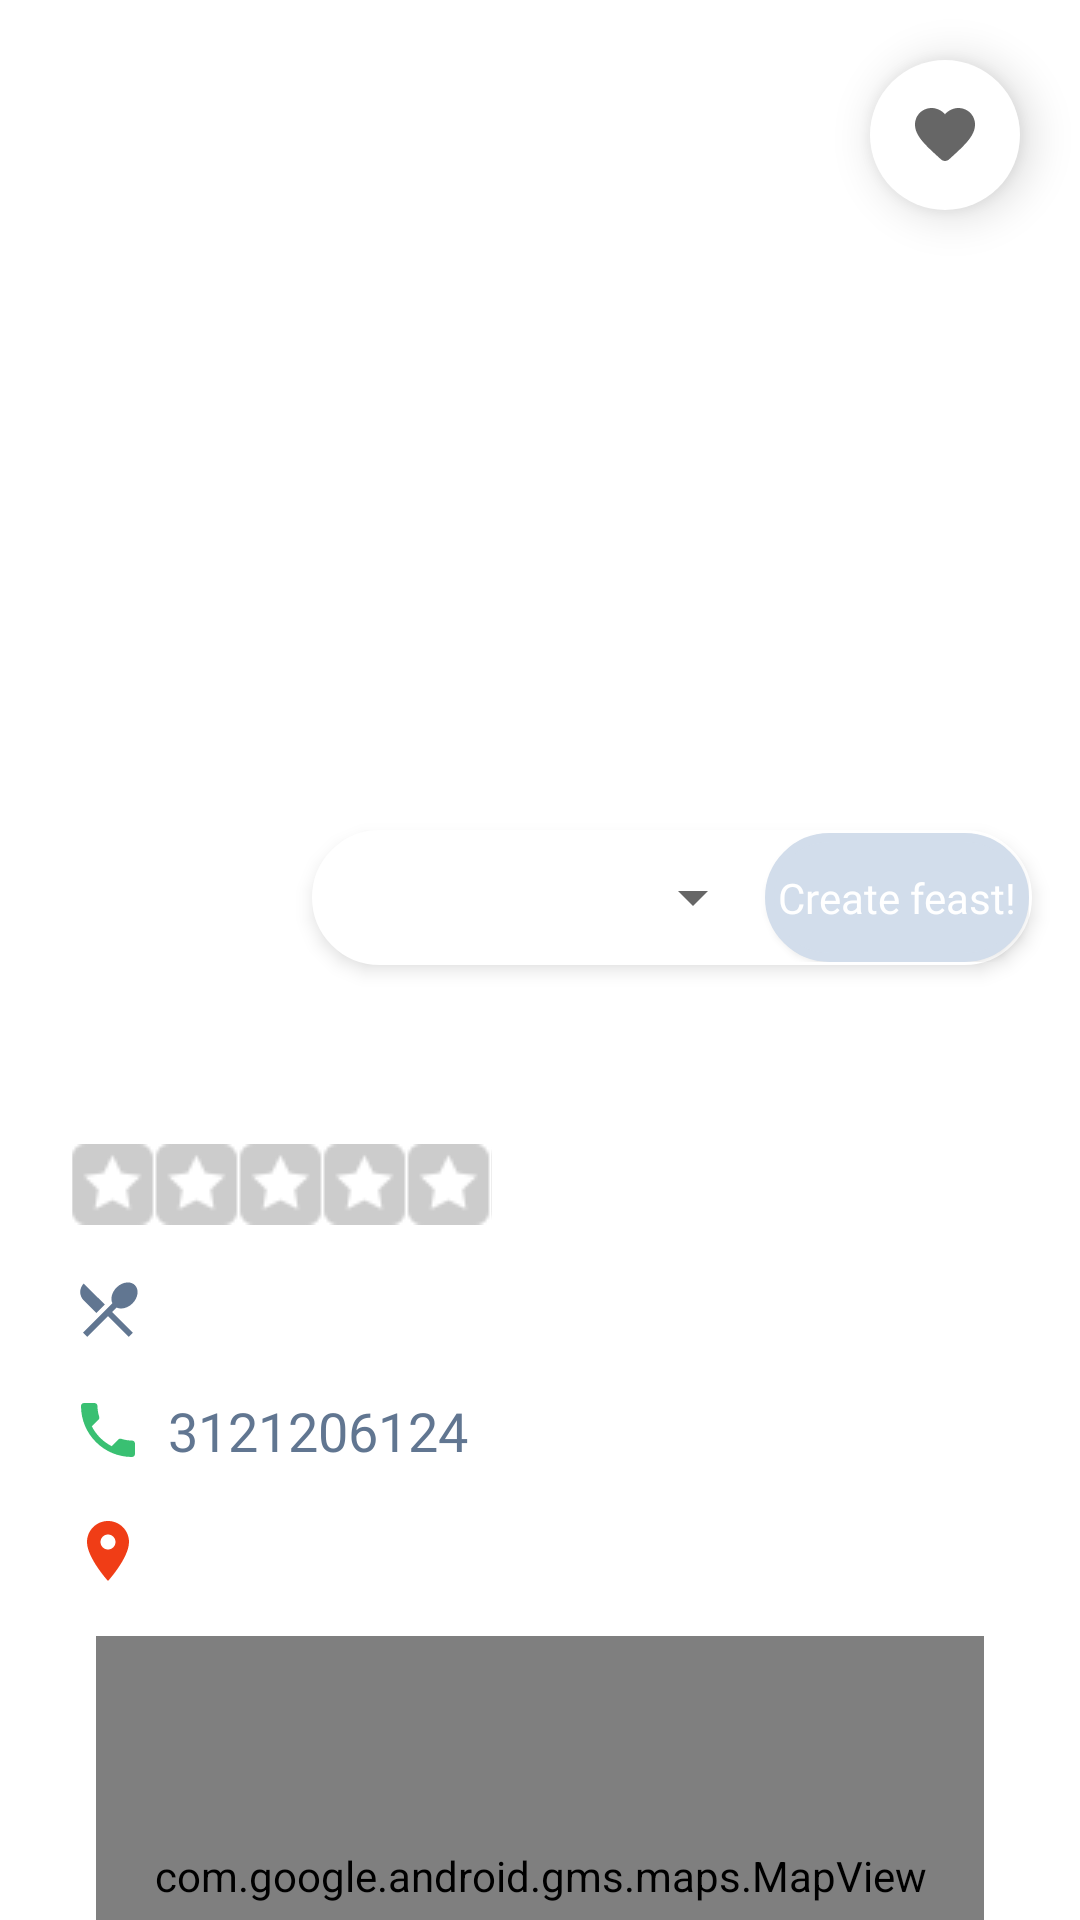

Icon bounding boxes for this 1080w x 1920h phone screenshot, format (x1, y1, x2, y2):
favorite: (915, 107, 1020, 201)
